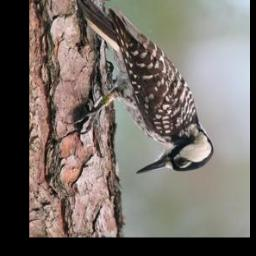Woodpecker: (67, 0, 215, 175)
